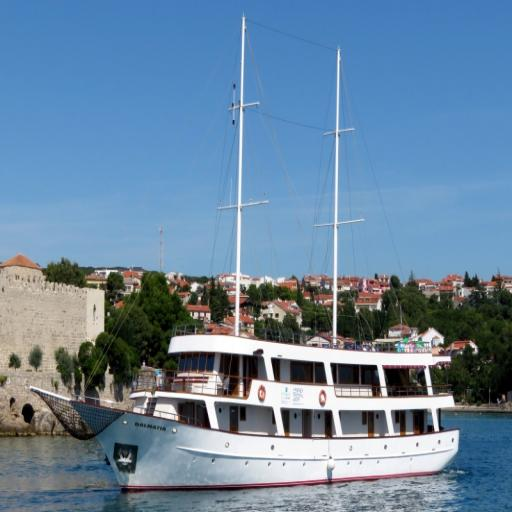cruises: (66, 313, 465, 500)
